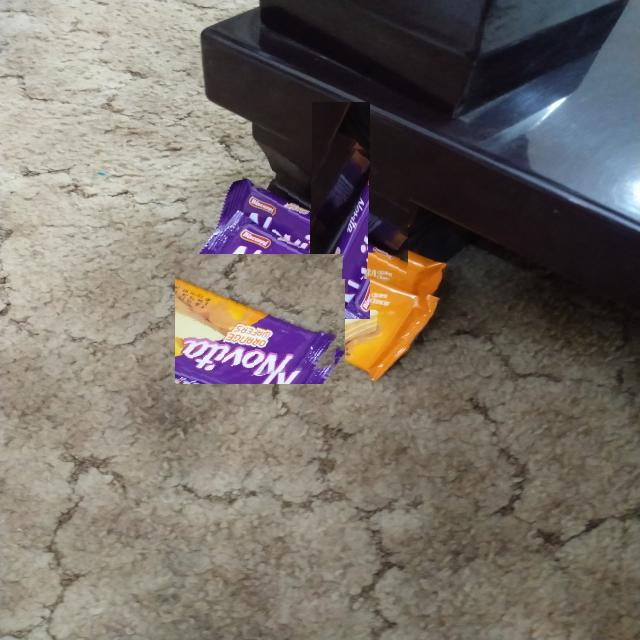Plastic: (175, 254, 345, 384), (272, 141, 410, 279)
